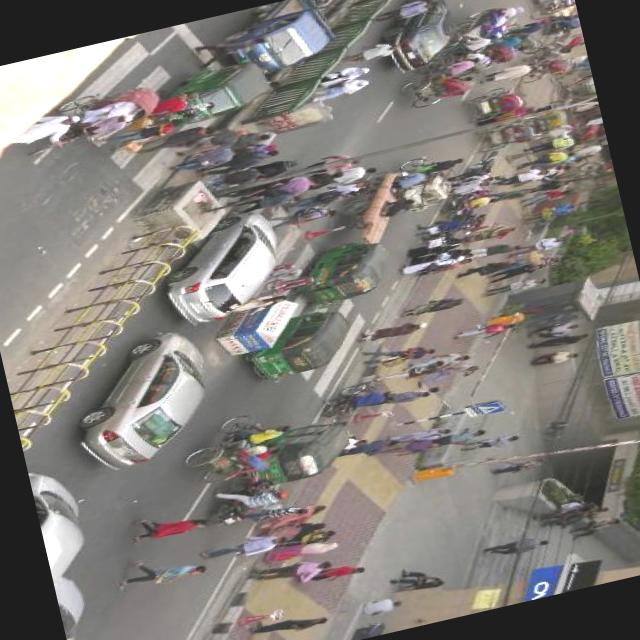car: (56, 322, 229, 480), (156, 205, 300, 331), (372, 0, 467, 77)
motorcycle: (11, 80, 169, 164), (230, 304, 362, 392), (176, 404, 303, 492), (245, 416, 364, 494), (152, 58, 270, 136), (294, 235, 400, 314), (396, 49, 490, 114), (199, 474, 283, 534), (456, 83, 526, 128), (314, 380, 376, 422), (473, 117, 538, 157)
truck: (214, 0, 347, 84)
